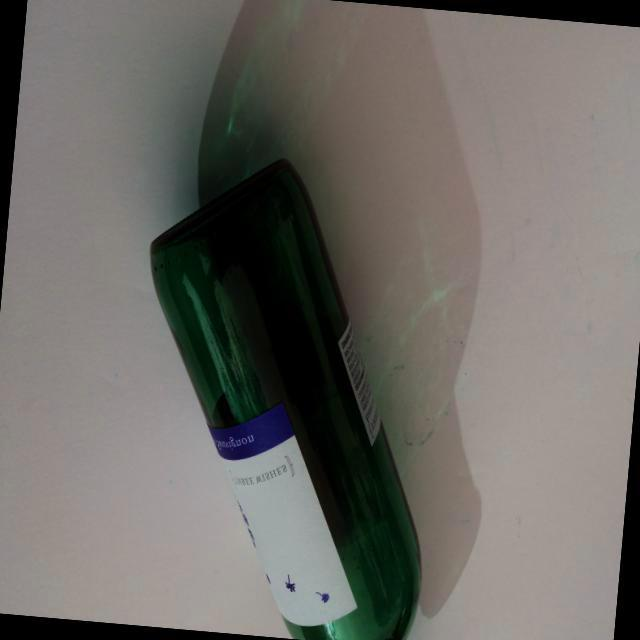glass: (97, 159, 528, 640)
